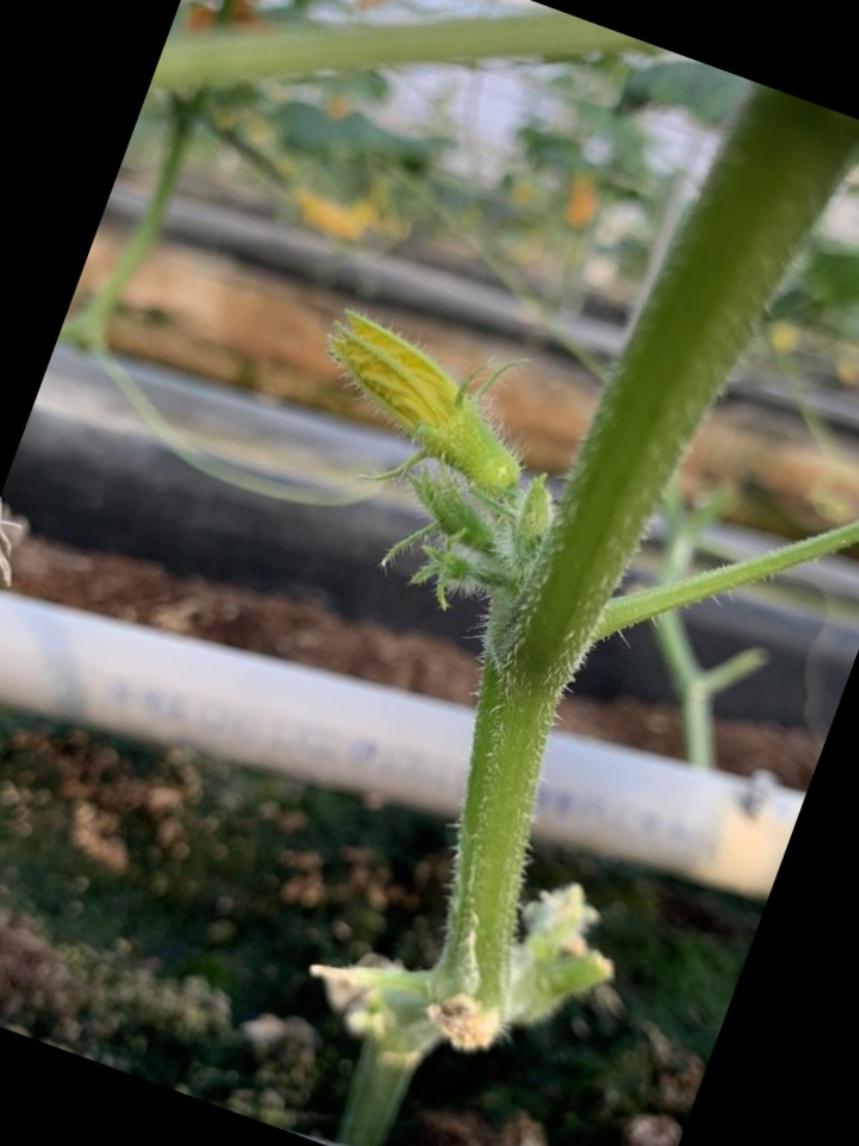bud: (317, 301, 530, 487)
